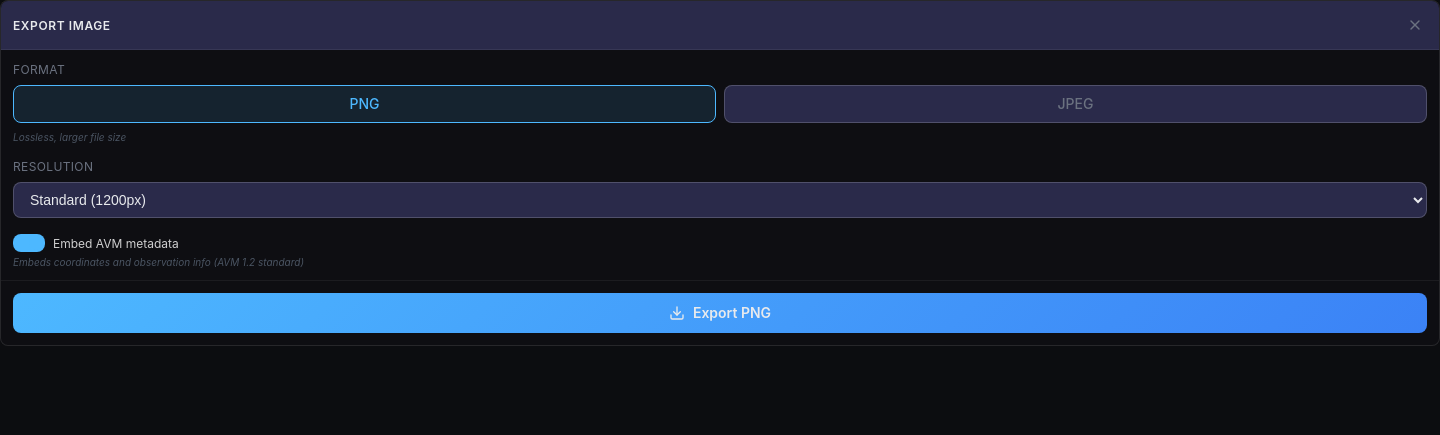
it: ExportOptionsPanel › shows quality slider when JPEG is selected
Expected: the text "Quality" is not shown
# Click JPEG
Click the button "JPEG".
click(1076, 104)  # box [724,85,1427,123]
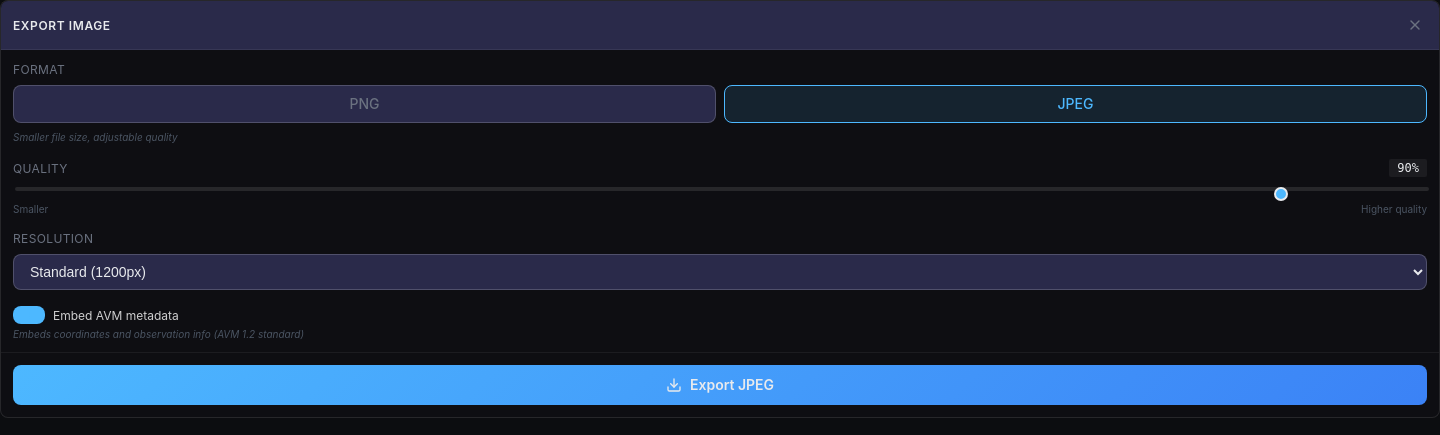
Now the text "Quality" is shown, box [13,160,68,176]
